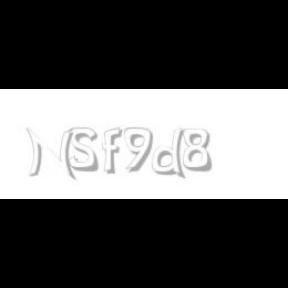8: (182, 128, 212, 172)
9: (124, 128, 153, 172)
N: (25, 128, 74, 180)
S: (68, 128, 100, 172)
d: (152, 128, 190, 180)
f: (102, 128, 126, 174)
